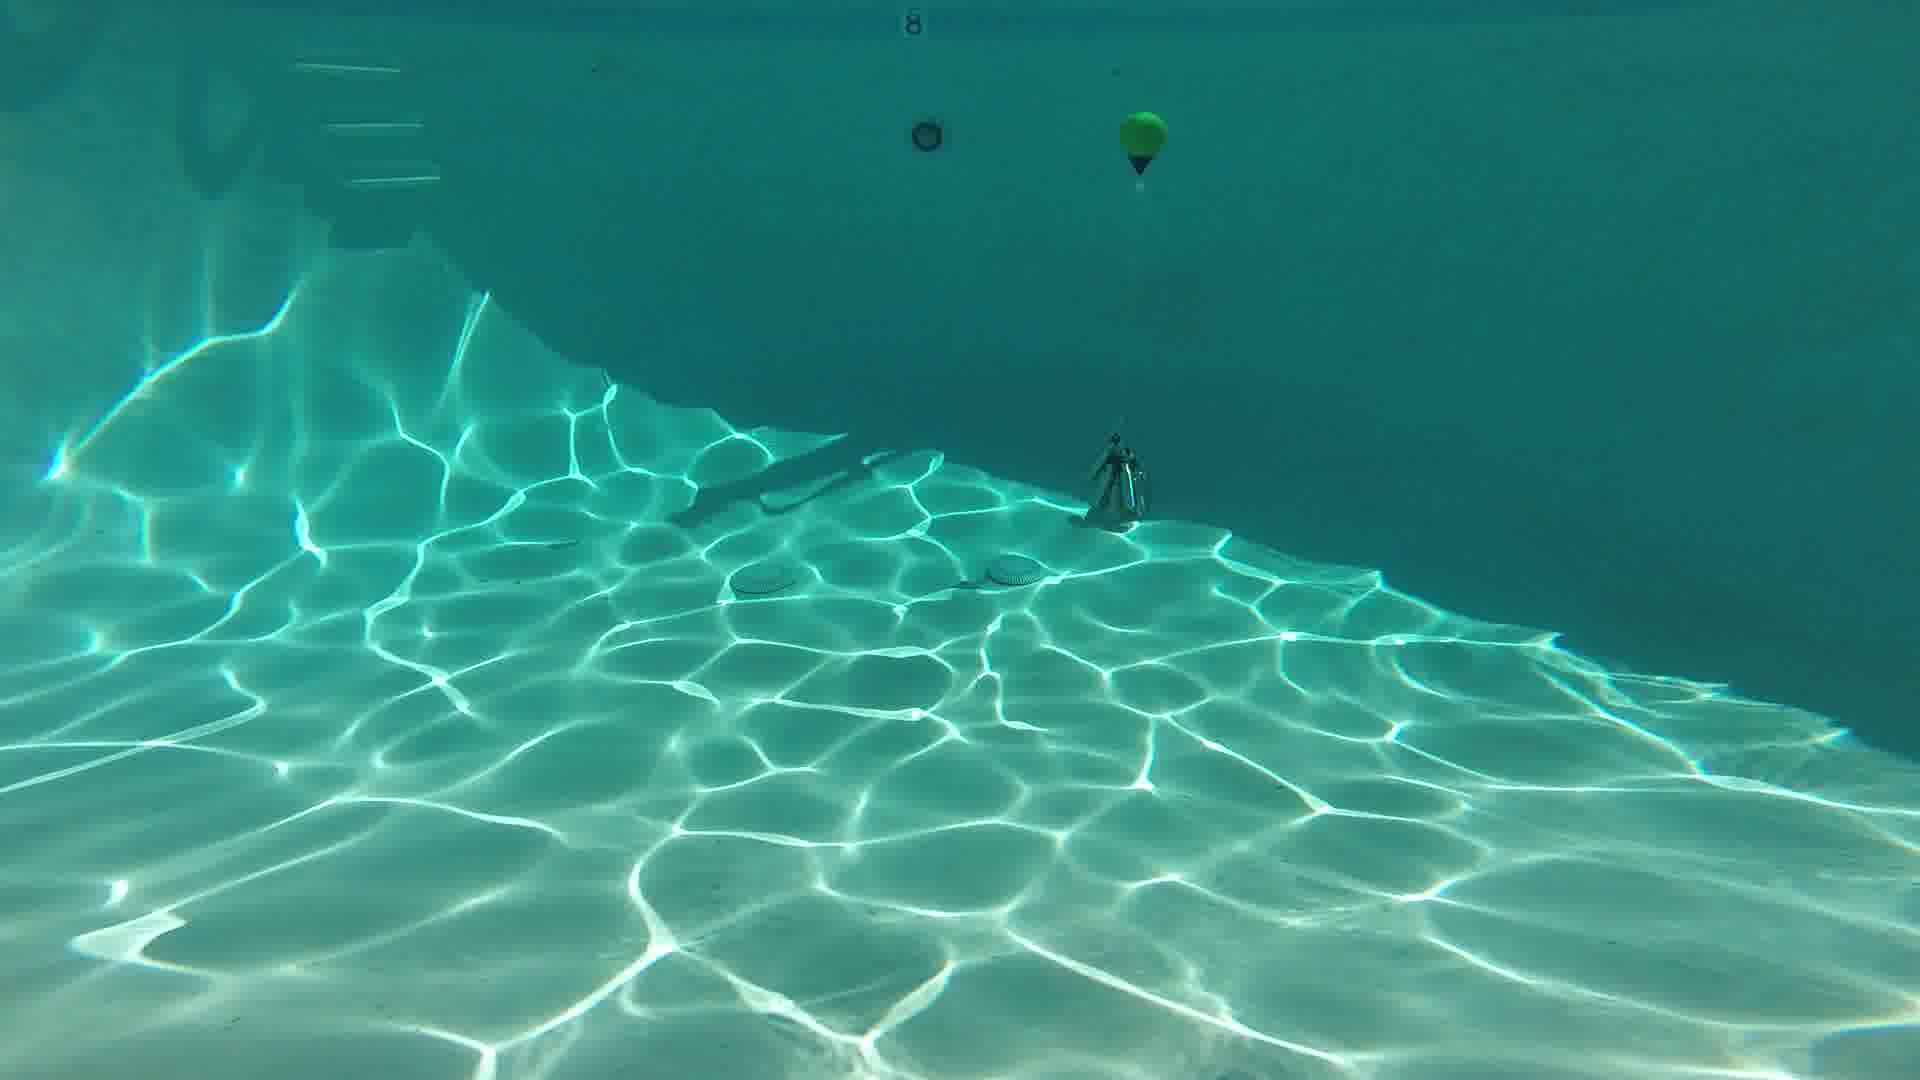yellow_buoy: (1120, 109, 1164, 175)
